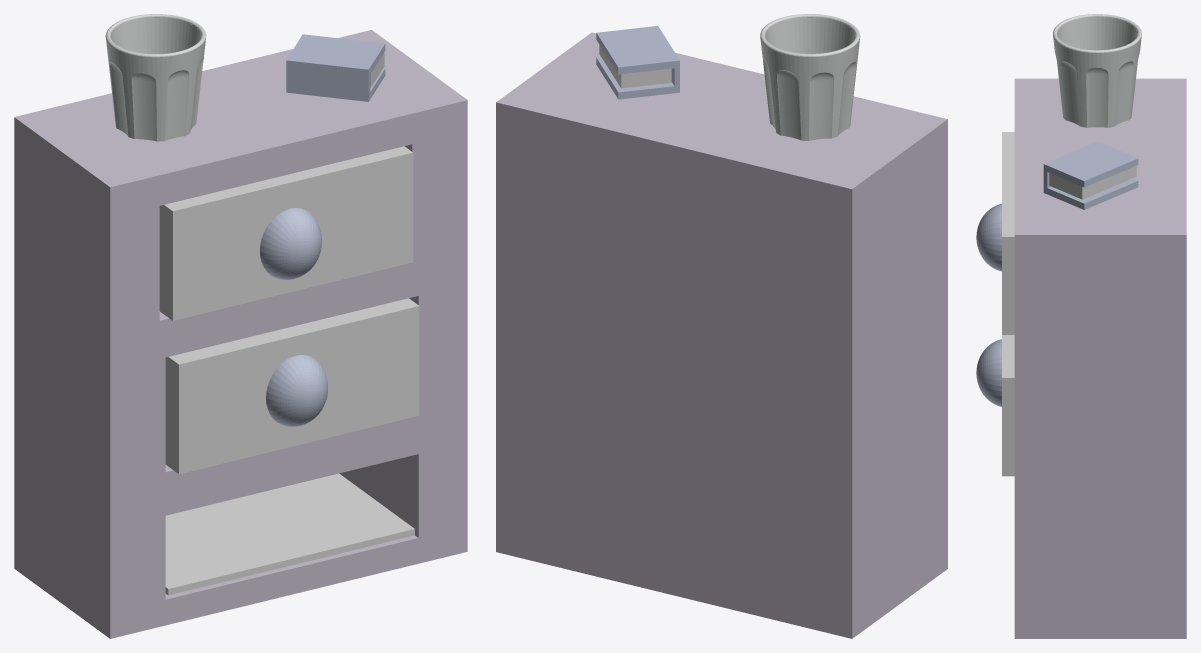
Rendered from Side Table.glb.
3 renders of one model, left to right at view 1: azimuth 30°, elevation 25°; view 2: azimuth 150°, elevation 25°; view 3: azimuth 270°, elevation 25°, orthographic. The views are drawn at different scales.
Visible parts, largest first — view 1: Mesh_Mesh_head_geo.001_lambert2SG.001; view 2: Mesh_Mesh_head_geo.001_lambert2SG.001; view 3: Mesh_Mesh_head_geo.001_lambert2SG.001.
Boxes of the visible parts, x1,y1,x2,y2 form: Mesh_Mesh_head_geo.001_lambert2SG.001: (14, 14, 467, 638); Mesh_Mesh_head_geo.001_lambert2SG.001: (496, 14, 947, 638); Mesh_Mesh_head_geo.001_lambert2SG.001: (976, 14, 1186, 638).
Size of the model in its own units: 58 by 85 by 33.
